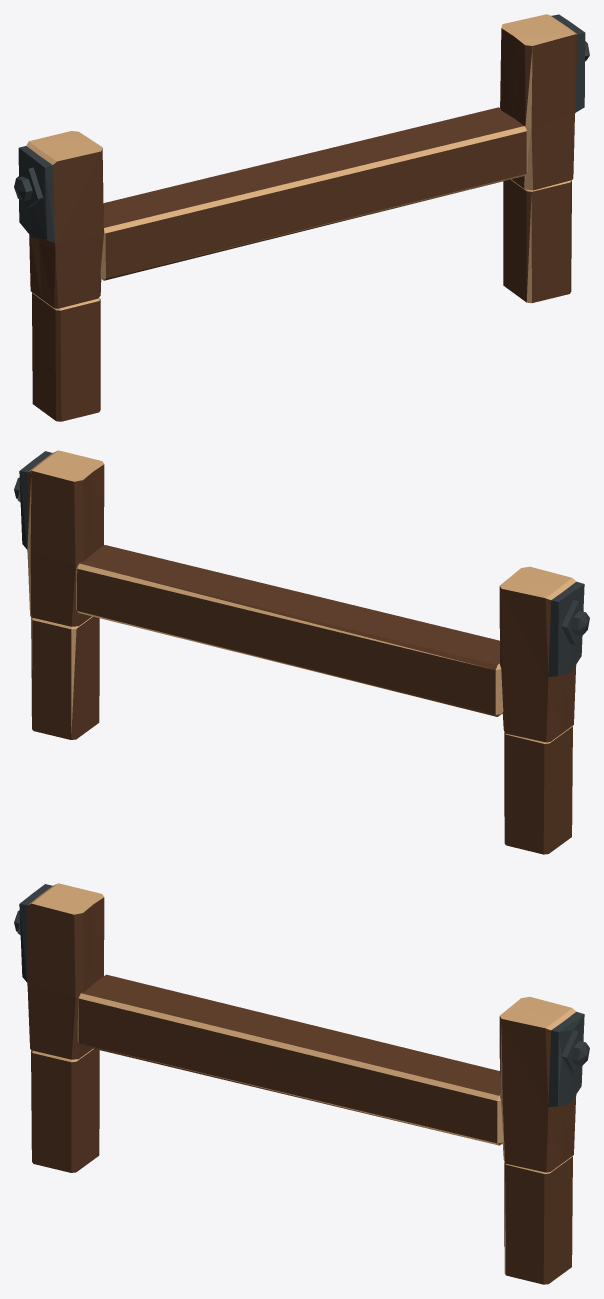
File: MCastle_PortculisMech_Frame_02.FBX
3 views of the same model, one above another, from view 1: azimuth 30°, elevation 25°; view 2: azimuth 150°, elevation 25°; view 3: azimuth 330°, elevation 25° (orthographic).
Parts seen in each view (by area): view 1: MCastle_PortculisMech_Frame_02_LOD0; view 2: MCastle_PortculisMech_Frame_02_LOD0; view 3: MCastle_PortculisMech_Frame_02_LOD0.
Boxes of the visible parts, left/top/right/bottom form: MCastle_PortculisMech_Frame_02_LOD0: left=14, top=14, right=589, bottom=421; MCastle_PortculisMech_Frame_02_LOD0: left=14, top=450, right=589, bottom=854; MCastle_PortculisMech_Frame_02_LOD0: left=14, top=883, right=589, bottom=1284.
Size of what is drawn, in the model's own units: 6.35 by 2.78 by 0.5889.
